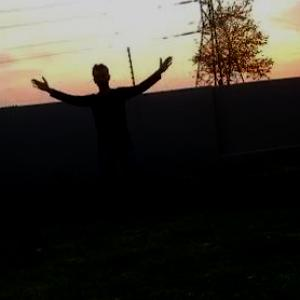takeoff: (46, 53, 201, 228)
